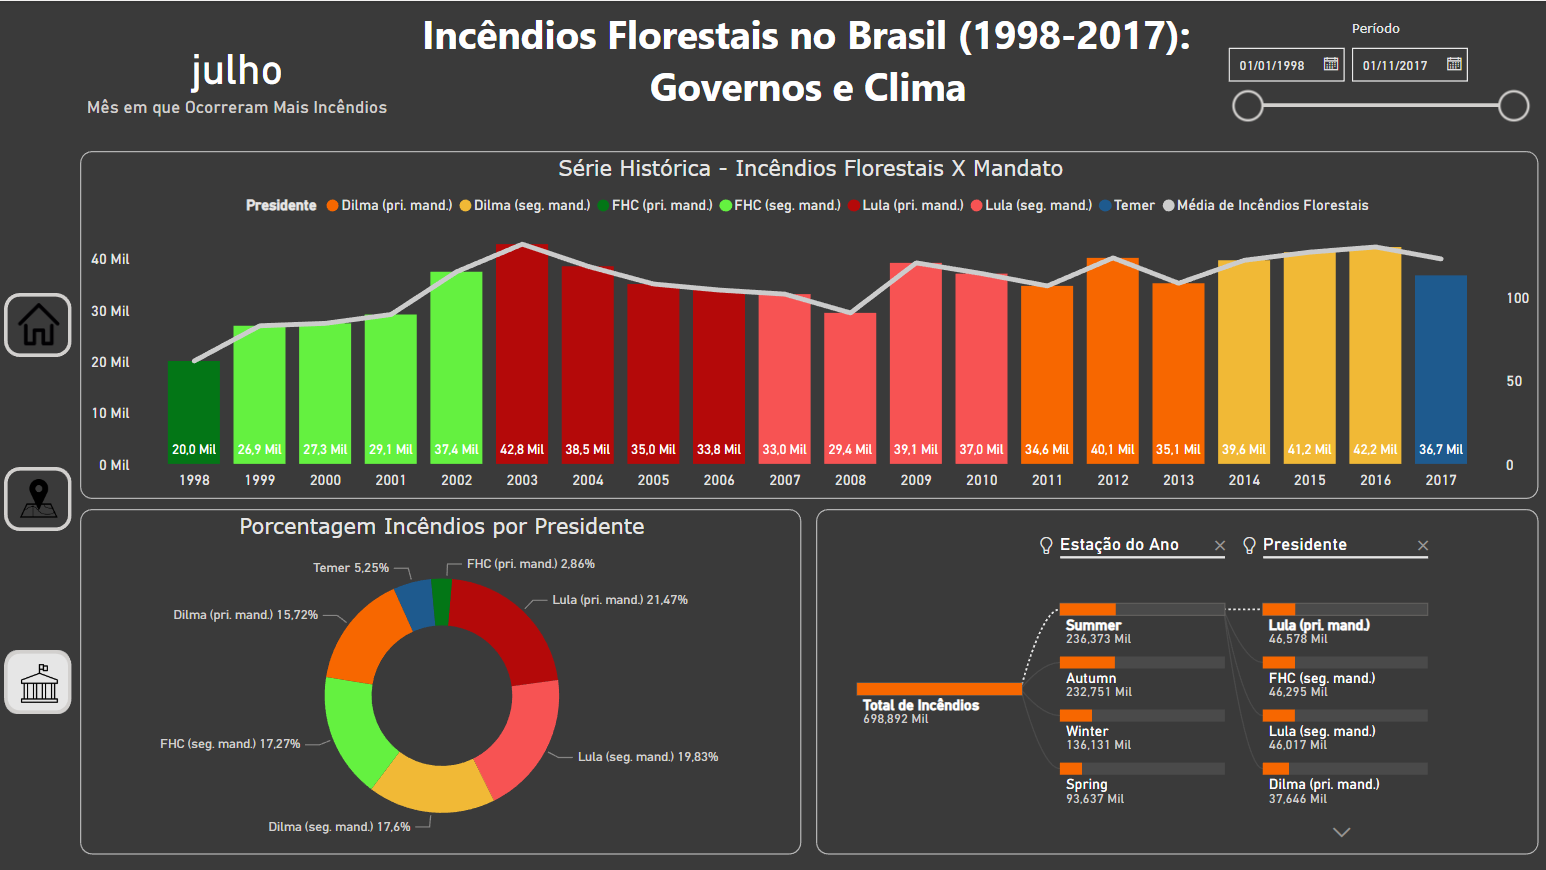

This screenshot's page, from the dashboard's own definition file:
{"tool":"powerbi","page":{"name":"Governos e Clima","canvas":[1280,720],"ordinal":2},"visuals":[{"type":"image","box":[7,245,50,45],"z":0},{"type":"image","box":[7,389,50,44.8],"z":1000},{"type":"image","box":[4.4,537.4,53.6,52.7],"z":2000},{"type":"decompositionTreeVisual","fields":{"ExplainBy":["amazon_data.Season","amazon_data.President"],"Analyze":["amazon_data.Num_wild_fires"]},"box":[675.2,420.6,598,286.2],"z":3000},{"type":"lineStackedColumnComboChart","title":"Série Histórica - Incêndios Florestais X Mandato","fields":{"Category":["amazon_data.Date.Variation.Hierarquia de datas.Ano"],"Y":["amazon_data.Num_wild_fires"],"Series":["amazon_data.President"],"Y2":["amazon_data.Num_wild_fires"]},"box":[65.9,123.8,1207.3,288],"z":4000},{"type":"donutChart","title":"Porcentagem Incêndios por Presidente","fields":{"Category":["amazon_data.President"],"Y":["amazon_data.Num_wild_fires"]},"box":[65.9,420.6,597.1,286.2],"z":5000},{"type":"slicer","title":"Período","fields":{"Values":["amazon_data.Date"]},"box":[1003.6,15.8,269.6,92.2],"z":6000},{"type":"card","fields":{"Values":["amazon_data.Date.Variation.Hierarquia de datas.Mês"]},"box":[65.9,15.8,259.9,92.2],"z":7000},{"type":"textbox","box":[344.2,0,648.9,101.9],"z":8000},{"type":"actionButton","box":[3.5,241.5,56.2,52.7],"z":9000},{"type":"actionButton","box":[3.5,385.5,56.2,52.7],"z":10000},{"type":"actionButton","box":[3.5,537.4,56.2,52.7],"z":11000}]}

Visuals, with their boxes in screenshot pixels (x1, y1, x2, y2), scaled from the page's 1280x720 canvas onto the 1546x870 screenshot:
image: 8, 296, 69, 350
image: 8, 470, 69, 524
image: 5, 649, 70, 713
decompositionTreeVisual - amazon_data.Season x amazon_data.President: 816, 508, 1538, 854
"Série Histórica - Incêndios Florestais X Mandato" lineStackedColumnComboChart: 80, 150, 1538, 498
"Porcentagem Incêndios por Presidente" donutChart: 80, 508, 801, 854
"Período" slicer: 1212, 19, 1538, 130
card - amazon_data.Date.Variation.Hierarquia de datas.Mês: 80, 19, 394, 130
textbox: 416, 0, 1199, 123
actionButton: 4, 292, 72, 355
actionButton: 4, 466, 72, 529
actionButton: 4, 649, 72, 713
